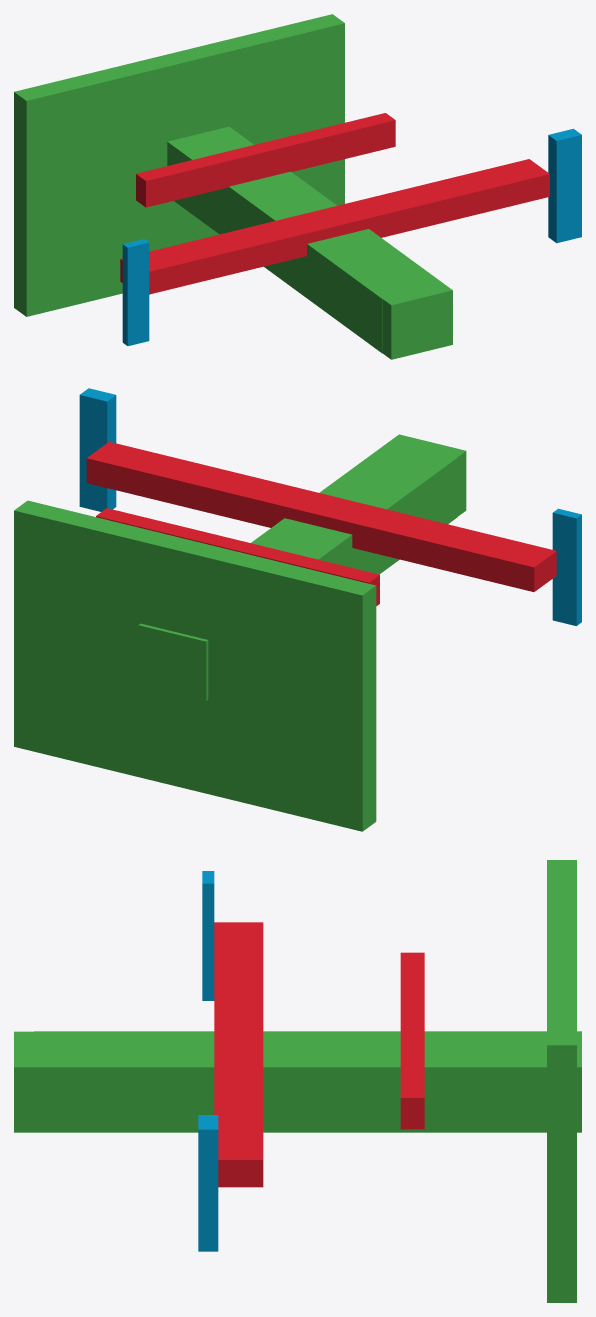
The model's file is tinker.obj.
3 views of the same model, one above another, from view 1: azimuth 30°, elevation 25°; view 2: azimuth 150°, elevation 25°; view 3: azimuth 270°, elevation 25° (orthographic). The views are drawn at different scales.
Parts seen in each view (by area): view 1: group_0_4634441, group_0_15277357, group_0_40919; view 2: group_0_4634441, group_0_15277357, group_0_40919; view 3: group_0_4634441, group_0_15277357, group_0_40919.
Part boxes in pixels (box(x1,y1,x2,y2)): group_0_4634441: box(14, 14, 452, 359); group_0_15277357: box(120, 113, 549, 294); group_0_40919: box(122, 128, 581, 345); group_0_4634441: box(14, 434, 466, 831); group_0_15277357: box(86, 441, 556, 605); group_0_40919: box(79, 388, 581, 625); group_0_4634441: box(14, 860, 581, 1302); group_0_15277357: box(214, 922, 424, 1187); group_0_40919: box(198, 871, 218, 1251).
Bounding box in the file's own units: 125 × 57 × 114.
